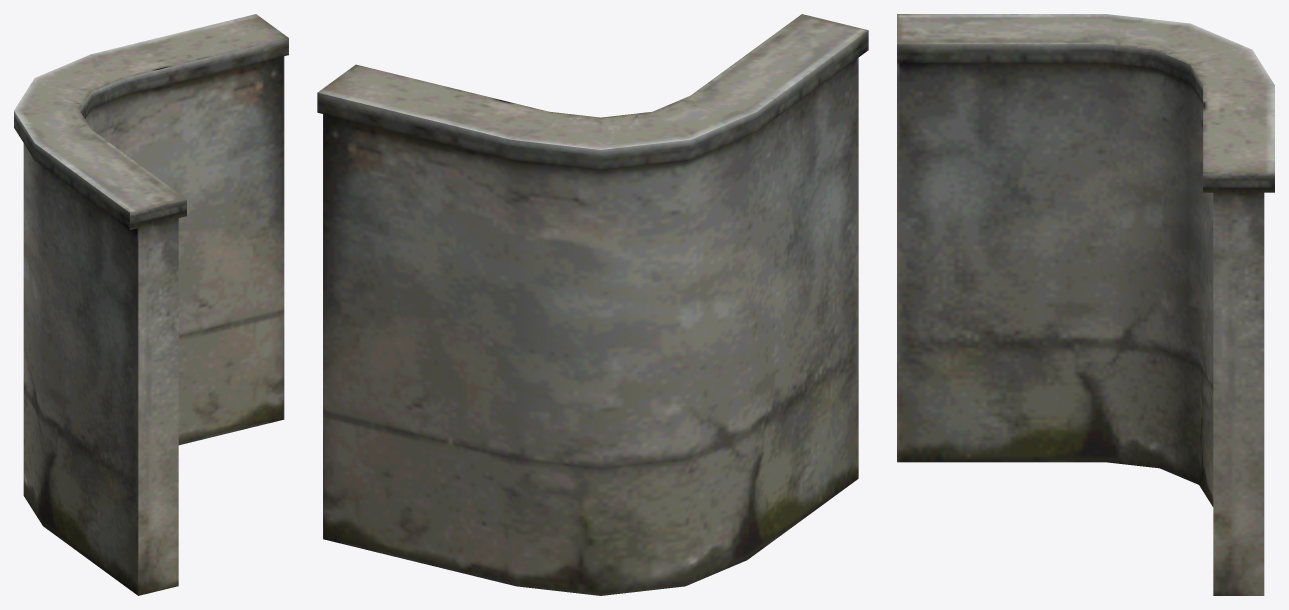
Rendered from Wall_corner2.fbx.
3 renders of one model, left to right at view 1: azimuth 30°, elevation 25°; view 2: azimuth 150°, elevation 25°; view 3: azimuth 270°, elevation 25°, orthographic. The views are drawn at different scales.
Visible parts, largest first — view 1: Wall_corner2; view 2: Wall_corner2; view 3: Wall_corner2.
Boxes of the visible parts, x1,y1,x2,y2 form: Wall_corner2: [14, 14, 288, 595]; Wall_corner2: [317, 14, 868, 595]; Wall_corner2: [897, 14, 1274, 595].
Bounding box in the file's own units: 243 × 299 × 243.
